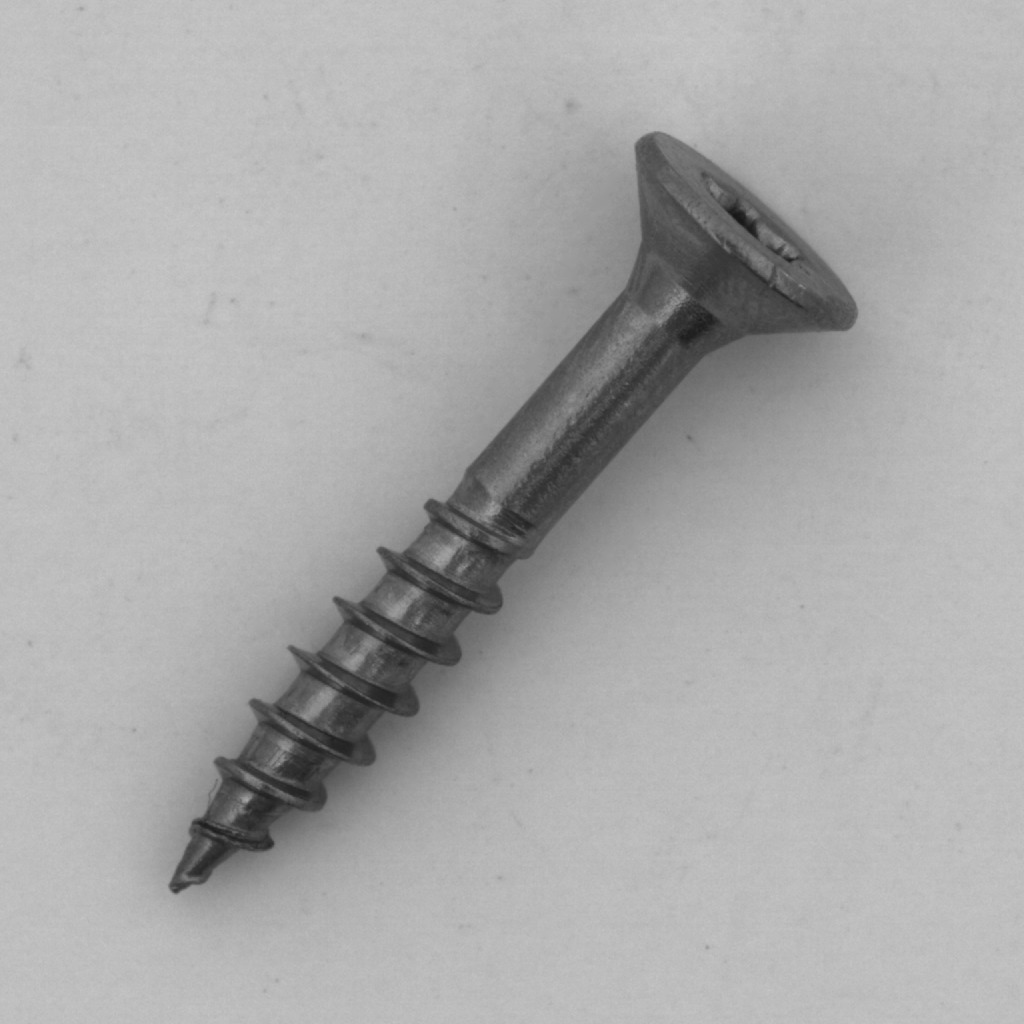good: (151, 115, 896, 915)
